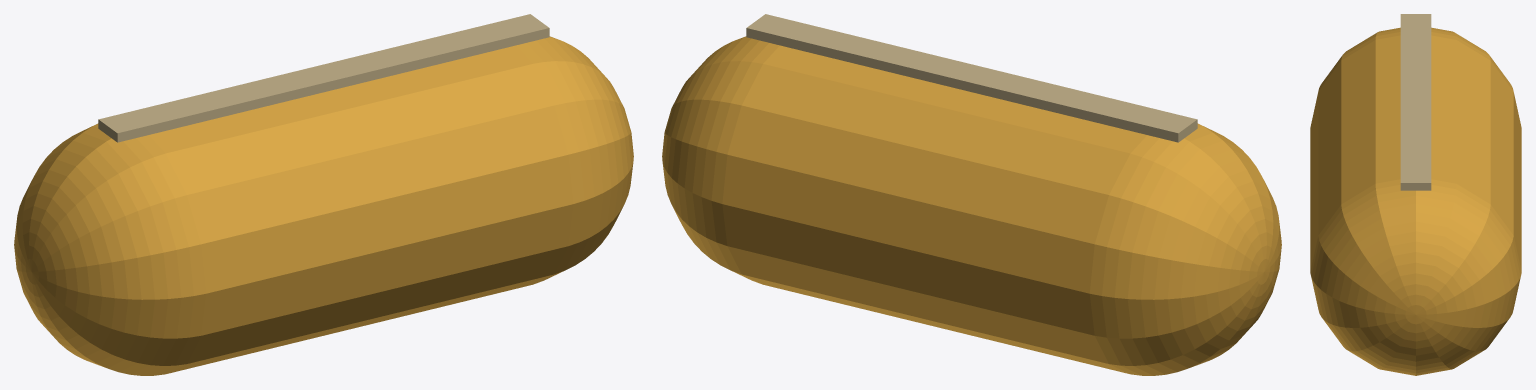
File: opportunity-capsule.obj
3 renders of one model, left to right at view 1: azimuth 30°, elevation 25°; view 2: azimuth 150°, elevation 25°; view 3: azimuth 270°, elevation 25°, orthographic. The views are drawn at different scales.
Parts seen in each view (by area): view 1: geometry_0, geometry_1; view 2: geometry_0, geometry_1; view 3: geometry_0, geometry_1.
Boxes of the visible parts, x1=… form: geometry_0: x1=14, y1=36, x2=633, y2=375; geometry_1: x1=98, y1=14, x2=549, y2=142; geometry_0: x1=662, y1=36, x2=1281, y2=375; geometry_1: x1=746, y1=14, x2=1197, y2=142; geometry_0: x1=1310, y1=27, x2=1521, y2=375; geometry_1: x1=1400, y1=14, x2=1431, y2=190.
Size of the model in its own units: 2.3 by 0.9269 by 0.8988.
